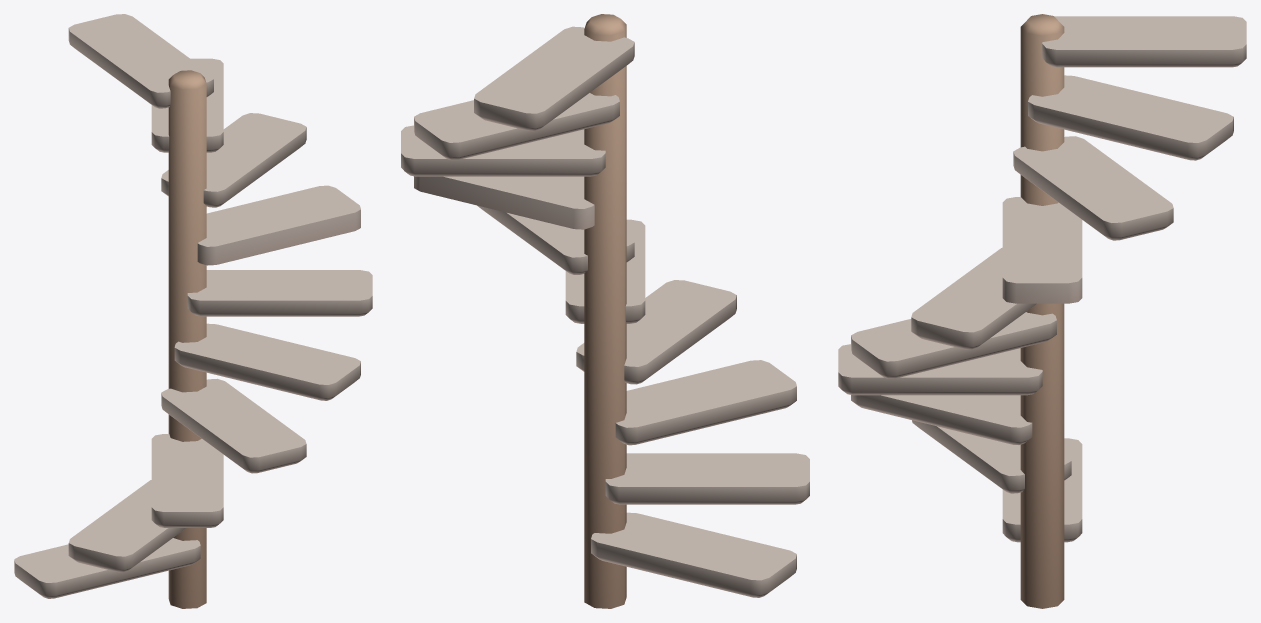
The model's file is stairs-spiral.glb.
3 views of the same model, side by side, from view 1: azimuth 30°, elevation 25°; view 2: azimuth 150°, elevation 25°; view 3: azimuth 270°, elevation 25° (orthographic). The views are drawn at different scales.
Parts seen in each view (by area): view 1: stairs-spiral; view 2: stairs-spiral; view 3: stairs-spiral.
Boxes of the visible parts, left/top/right/bottom form: stairs-spiral: left=14, top=14, right=372, bottom=608; stairs-spiral: left=401, top=14, right=809, bottom=608; stairs-spiral: left=838, top=14, right=1246, bottom=608.
Bounding box in the file's own units: 1.5 × 2.35 × 1.5.
